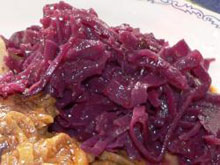cabbage: (0, 3, 219, 162)
